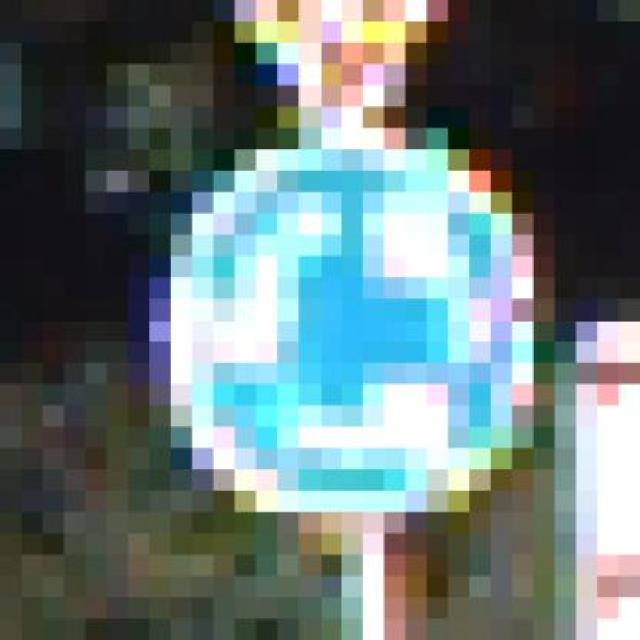Round-About: (128, 107, 597, 576)
